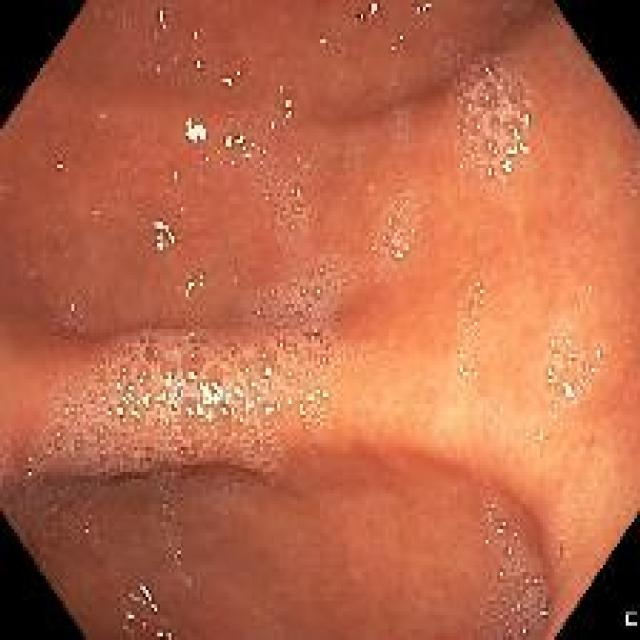bubbles: (34, 331, 336, 482), (448, 55, 539, 182), (1, 445, 67, 559), (250, 257, 346, 324), (491, 542, 550, 639), (261, 158, 314, 248), (370, 187, 423, 274), (71, 477, 120, 560), (148, 465, 186, 535), (213, 468, 240, 519), (270, 83, 298, 122), (348, 5, 382, 30), (340, 346, 376, 366), (287, 537, 308, 562), (340, 157, 360, 182), (412, 2, 436, 21), (477, 219, 492, 246), (555, 536, 566, 562), (170, 547, 183, 569), (473, 275, 484, 297), (496, 518, 510, 535), (487, 500, 498, 518), (477, 298, 486, 314)
specularity: (545, 331, 604, 424), (220, 128, 254, 165), (148, 218, 178, 253), (177, 268, 208, 300), (455, 350, 482, 384), (180, 115, 207, 145), (198, 378, 224, 406), (134, 581, 157, 612), (557, 375, 579, 405), (356, 1, 380, 25), (390, 31, 407, 55), (217, 67, 234, 87), (247, 379, 262, 400), (156, 8, 171, 28), (121, 606, 134, 628), (191, 55, 207, 71), (416, 3, 434, 17), (232, 64, 246, 79), (189, 26, 202, 42), (155, 628, 172, 639), (500, 159, 514, 172), (241, 398, 253, 413), (261, 365, 274, 378), (139, 391, 149, 407), (233, 385, 243, 401), (507, 143, 518, 157), (510, 122, 518, 141), (520, 113, 530, 128), (486, 166, 498, 178), (519, 142, 528, 156), (391, 248, 402, 259), (536, 430, 544, 445), (391, 69, 399, 84), (55, 161, 65, 173), (400, 241, 409, 253), (140, 623, 150, 633), (439, 43, 445, 55), (291, 188, 300, 195), (409, 227, 415, 237)
